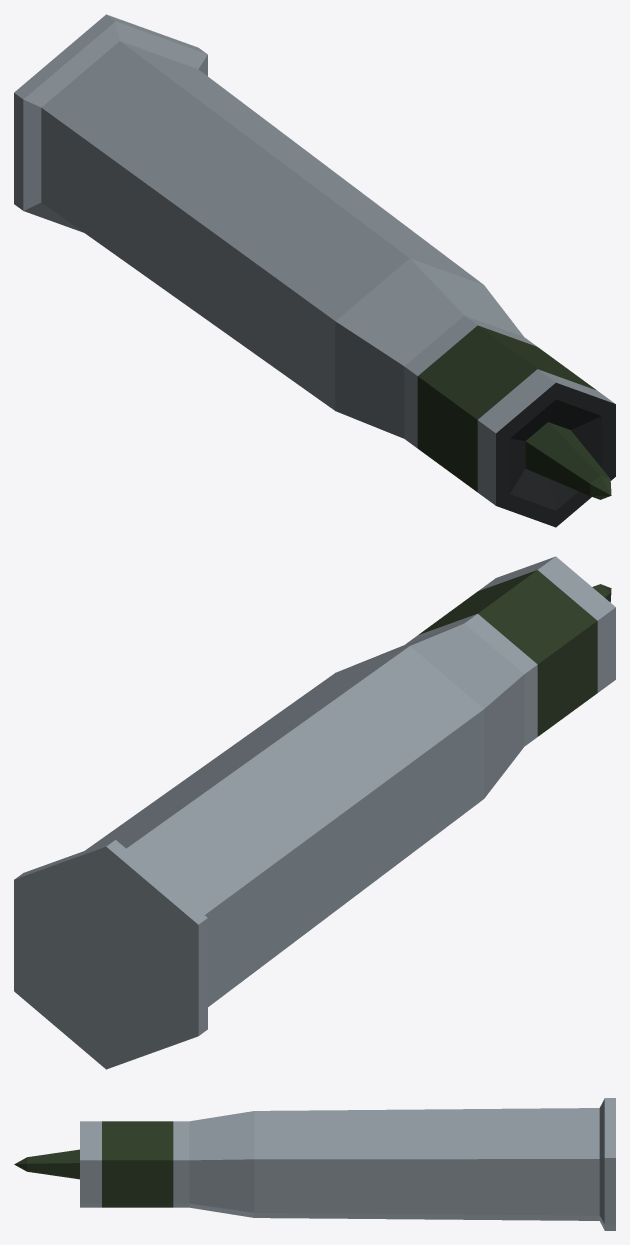
The model's file is SM_Veh_Attach_Tank_Round_03.fbx.
3 views of the same model, one above another, from view 1: azimuth 30°, elevation 25°; view 2: azimuth 150°, elevation 25°; view 3: azimuth 270°, elevation 25° (orthographic). The views are drawn at different scales.
Visible parts, largest first — view 1: SM_Veh_Attach_Tank_Round_03; view 2: SM_Veh_Attach_Tank_Round_03; view 3: SM_Veh_Attach_Tank_Round_03.
Boxes of the visible parts, bbox=[...] form: SM_Veh_Attach_Tank_Round_03: bbox=[14, 14, 615, 527]; SM_Veh_Attach_Tank_Round_03: bbox=[14, 556, 615, 1069]; SM_Veh_Attach_Tank_Round_03: bbox=[14, 1098, 615, 1230].
Size of the model in its own units: 22.24 by 25.68 by 106.
